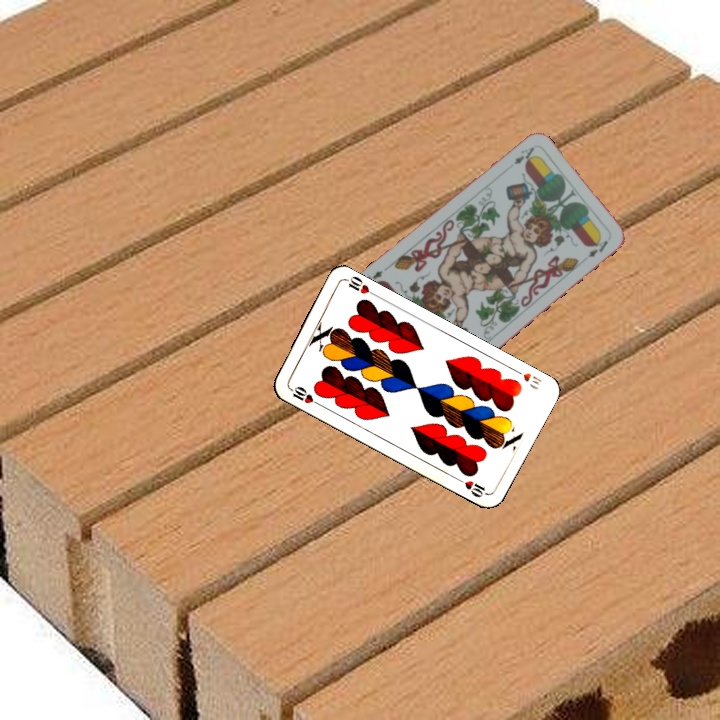EA: (510, 143, 537, 167)
H10: (284, 382, 322, 408), (509, 364, 544, 388)
